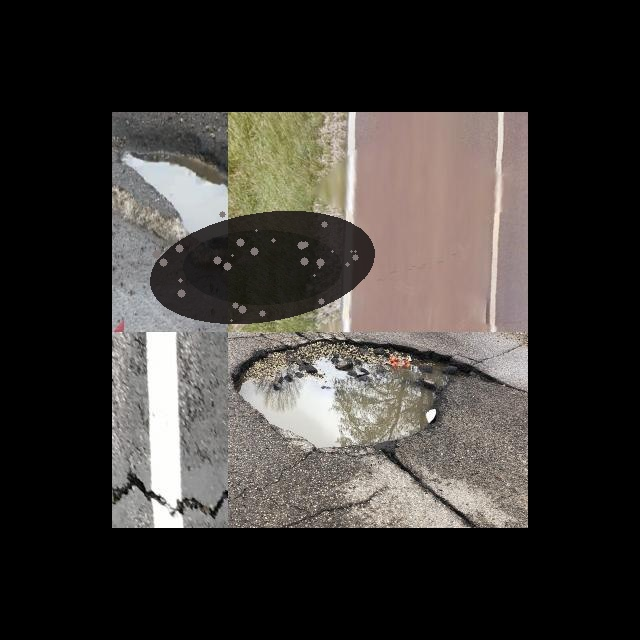pothole: (144, 208, 380, 326)
